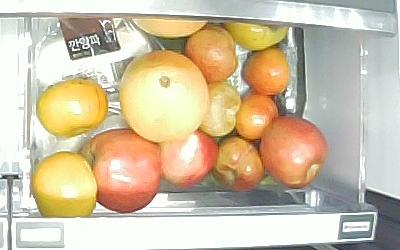apple: (81, 128, 162, 214), (258, 113, 329, 190), (157, 128, 220, 189)
grapefruit: (118, 49, 210, 143), (133, 18, 211, 38)
persimmon: (31, 151, 97, 217), (37, 79, 109, 138), (222, 19, 289, 49)
prune: (183, 24, 238, 82), (212, 134, 266, 193), (196, 81, 241, 136), (241, 45, 290, 95), (233, 94, 279, 142)
